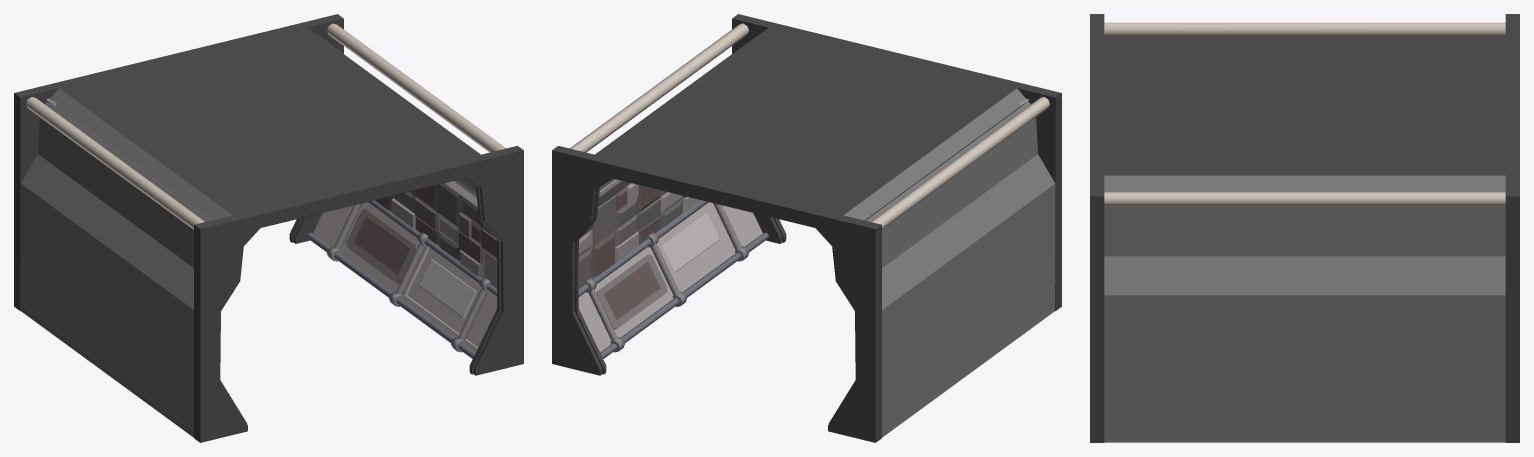
Rendered from Hallway_Module_Straight_02.glb.
3 views of the same model, side by side, from view 1: azimuth 30°, elevation 25°; view 2: azimuth 150°, elevation 25°; view 3: azimuth 270°, elevation 25° (orthographic). The views are drawn at different scales.
Visible parts, largest first — view 1: Hallway_Module_Straight_02; view 2: Hallway_Module_Straight_02; view 3: Hallway_Module_Straight_02.
Part boxes in pixels (left/top/right/bottom): Hallway_Module_Straight_02: left=14, top=14, right=523, bottom=442; Hallway_Module_Straight_02: left=552, top=14, right=1061, bottom=442; Hallway_Module_Straight_02: left=1090, top=14, right=1519, bottom=442.
Size of what is drawn, in the model's own units: 6.02 by 3.82 by 6.
Materials: 1 (1 with a texture image).
